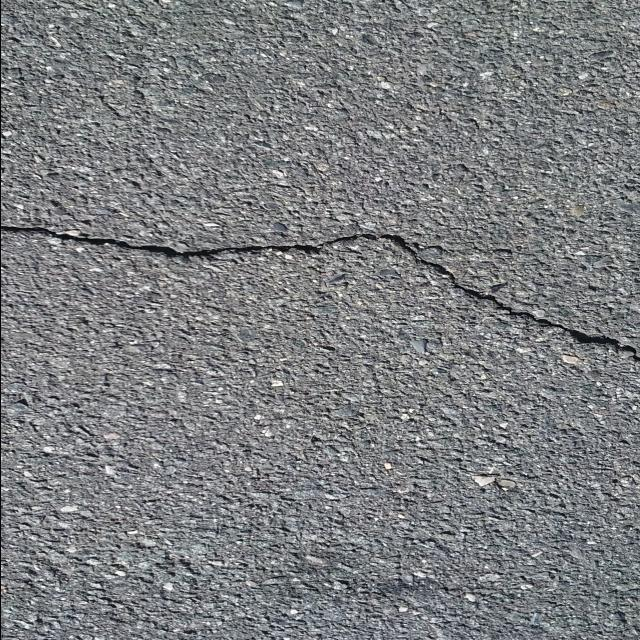Crack: (0, 225, 640, 363)
